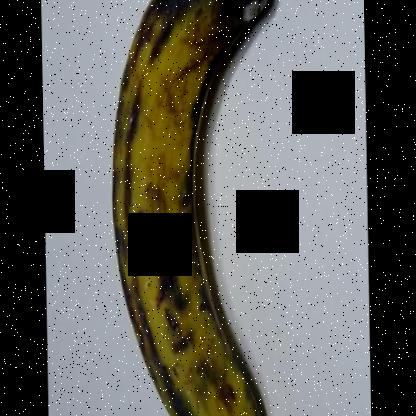overripe: (101, 1, 286, 415)
rotten: (159, 1, 293, 86)
